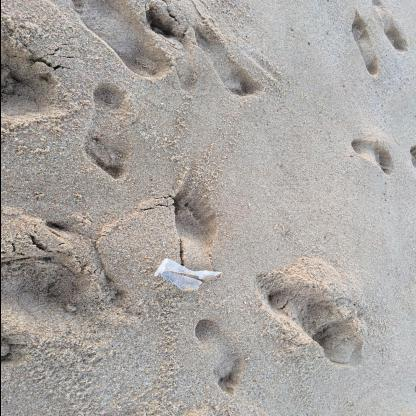plastik: (154, 259, 222, 293)
